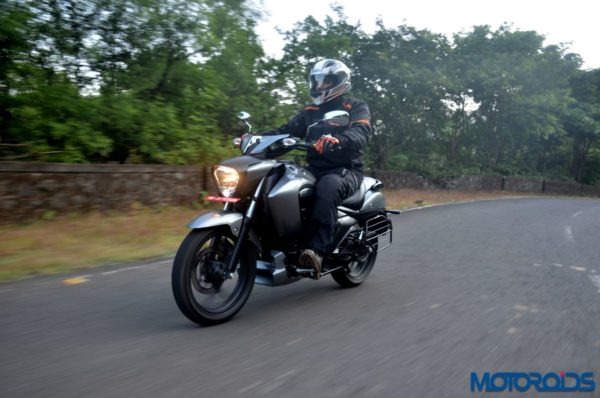helmet: (308, 55, 351, 107)
